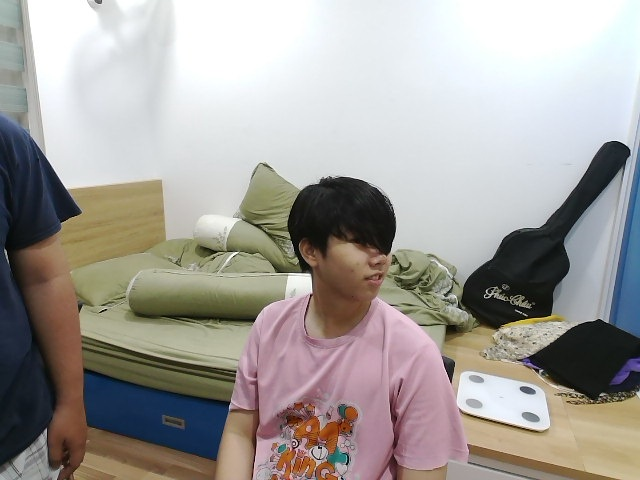face: (287, 177, 396, 303)
